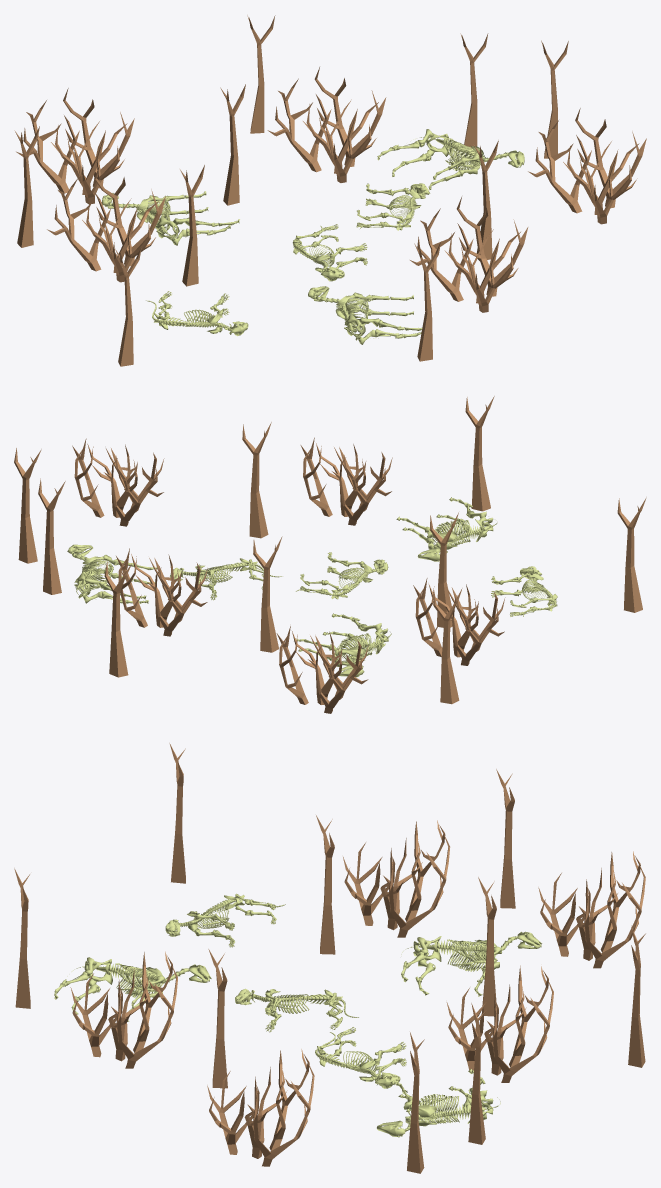
Rendered from EmptyHabitatModel.glb.
3 renders of one model, top to bottom at view 1: azimuth 30°, elevation 25°; view 2: azimuth 150°, elevation 25°; view 3: azimuth 270°, elevation 25°, orthographic. The views are drawn at different scales.
Visible parts, largest first — view 1: Bush_average_bare.003, Bush_average_bare.004, Bush_average_bare.001, Bush_average_bare, Bush_average_bare.002, horse, horse.002, horse.001, Lion_Skeleton_01.002, Lion_Skeleton_01.001, Lion_Skeleton_01, Tree_small_bare.008 (+8 smaller); view 2: Bush_average_bare.002, Bush_average_bare.004, Bush_average_bare, Bush_average_bare.003, Bush_average_bare.001, horse.002, horse, horse.001, Lion_Skeleton_01, Lion_Skeleton_01.002, Tree_small_bare.016, Tree_small_bare.014 (+8 smaller); view 3: Bush_average_bare.001, Bush_average_bare.004, Bush_average_bare, Bush_average_bare.002, Bush_average_bare.003, horse.001, horse.002, horse, Lion_Skeleton_01.001, Lion_Skeleton_01.002, Lion_Skeleton_01, Tree_small_bare.006 (+8 smaller).
Part boxes in pixels (<box>): Bush_average_bare.003: <box>267,67,386,182</box>; Bush_average_bare.004: <box>528,108,646,224</box>; Bush_average_bare.001: <box>47,165,165,282</box>; Bush_average_bare: <box>410,197,528,312</box>; Bush_average_bare.002: <box>16,88,134,204</box>; horse: <box>377,129,524,190</box>; horse.002: <box>308,286,422,344</box>; horse.001: <box>101,191,239,245</box>; Lion_Skeleton_01.002: <box>146,291,248,336</box>; Lion_Skeleton_01.001: <box>356,183,430,230</box>; Lion_Skeleton_01: <box>292,224,367,281</box>; Tree_small_bare.008: <box>220,84,245,205</box>; Bush_average_bare.002: <box>276,626,368,713</box>; Bush_average_bare.004: <box>72,438,164,526</box>; Bush_average_bare: <box>300,437,392,525</box>; Bush_average_bare.003: <box>116,548,207,636</box>; Bush_average_bare.001: <box>413,578,505,665</box>; horse.002: <box>396,497,497,561</box>; horse: <box>67,544,157,603</box>; horse.001: <box>294,613,391,677</box>; Lion_Skeleton_01: <box>295,552,388,599</box>; Lion_Skeleton_01.002: <box>491,566,557,616</box>; Tree_small_bare.016: <box>617,497,646,612</box>; Tree_small_bare.014: <box>14,448,41,563</box>; Bush_average_bare.001: <box>343,820,450,937</box>; Bush_average_bare.004: <box>207,1049,314,1166</box>; Bush_average_bare: <box>70,951,177,1068</box>; Bush_average_bare.002: <box>538,851,645,968</box>; Bush_average_bare.003: <box>446,965,553,1082</box>; horse.001: <box>401,931,542,996</box>; horse.002: <box>54,957,211,1021</box>; horse: <box>376,1069,500,1137</box>; Lion_Skeleton_01.001: <box>315,1027,406,1088</box>; Lion_Skeleton_01.002: <box>165,893,285,947</box>; Lion_Skeleton_01: <box>235,988,358,1032</box>; Tree_small_bare.006: <box>496,769,515,908</box>.
Bounding box in the file's own units: 22.2 × 4.44 × 19.24.
